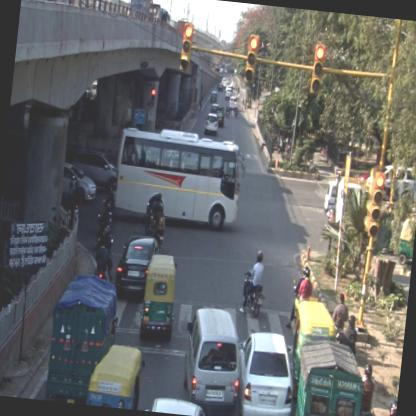bus: (111, 125, 248, 233)
car: (178, 306, 246, 414), (229, 329, 300, 415), (112, 232, 165, 304), (70, 147, 118, 191), (58, 164, 100, 208), (137, 395, 216, 415), (204, 110, 219, 135), (215, 109, 225, 127), (208, 90, 217, 106), (228, 96, 237, 108)
motorcycle: (239, 249, 270, 318), (284, 266, 314, 330), (355, 361, 381, 415), (140, 190, 168, 238), (226, 104, 231, 118), (233, 106, 238, 118)
truck: (43, 269, 122, 406), (293, 332, 367, 415)
